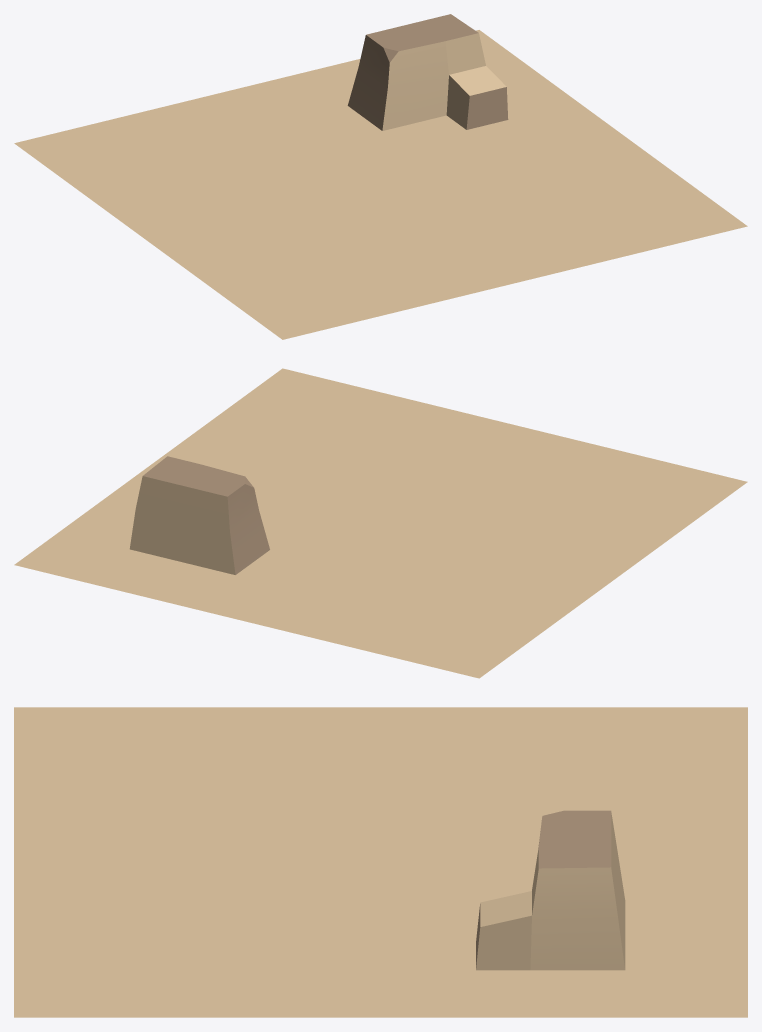
The model's file is FloorEmpty.fbx.
The picture shows the model from 3 angles, top to bottom: view 1: azimuth 30°, elevation 25°; view 2: azimuth 150°, elevation 25°; view 3: azimuth 270°, elevation 25°; orthographic projection. The views are drawn at different scales.
Visible parts, largest first — view 1: FloorEmpty; view 2: FloorEmpty; view 3: FloorEmpty.
Part boxes in pixels (x1=…): FloorEmpty: x1=14, y1=14, x2=747, y2=339; FloorEmpty: x1=14, y1=368, x2=747, y2=678; FloorEmpty: x1=14, y1=707, x2=747, y2=1017.
Size of the model in its own units: 5 by 0.7348 by 5.
